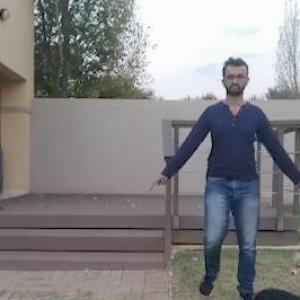land: (163, 70, 294, 298)
